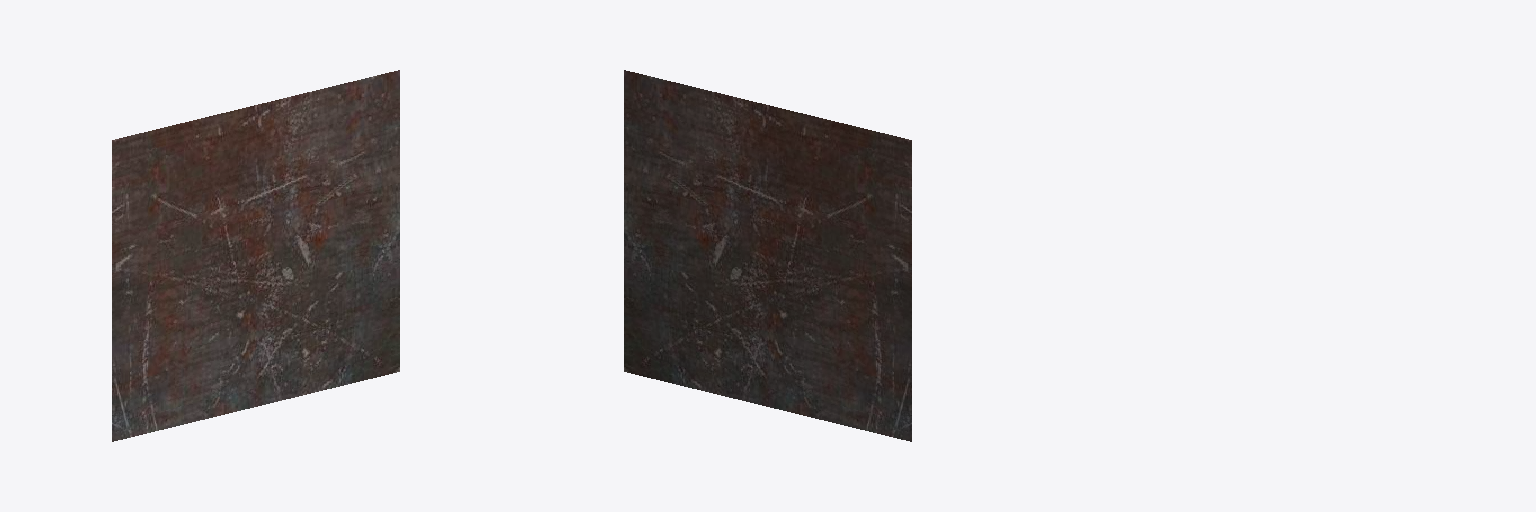
3 renders of one model, left to right at view 1: azimuth 30°, elevation 25°; view 2: azimuth 150°, elevation 25°; view 3: azimuth 270°, elevation 25°, orthographic.
Visible parts, largest first — view 1: Plane001; view 2: Plane001; view 3: none.
Part boxes in pixels (bbox=[...]): Plane001: bbox=[112, 70, 399, 441]; Plane001: bbox=[624, 70, 911, 441].
Size of the model in its own units: 1 by 1 by 0.
1 materials, 1 textured.